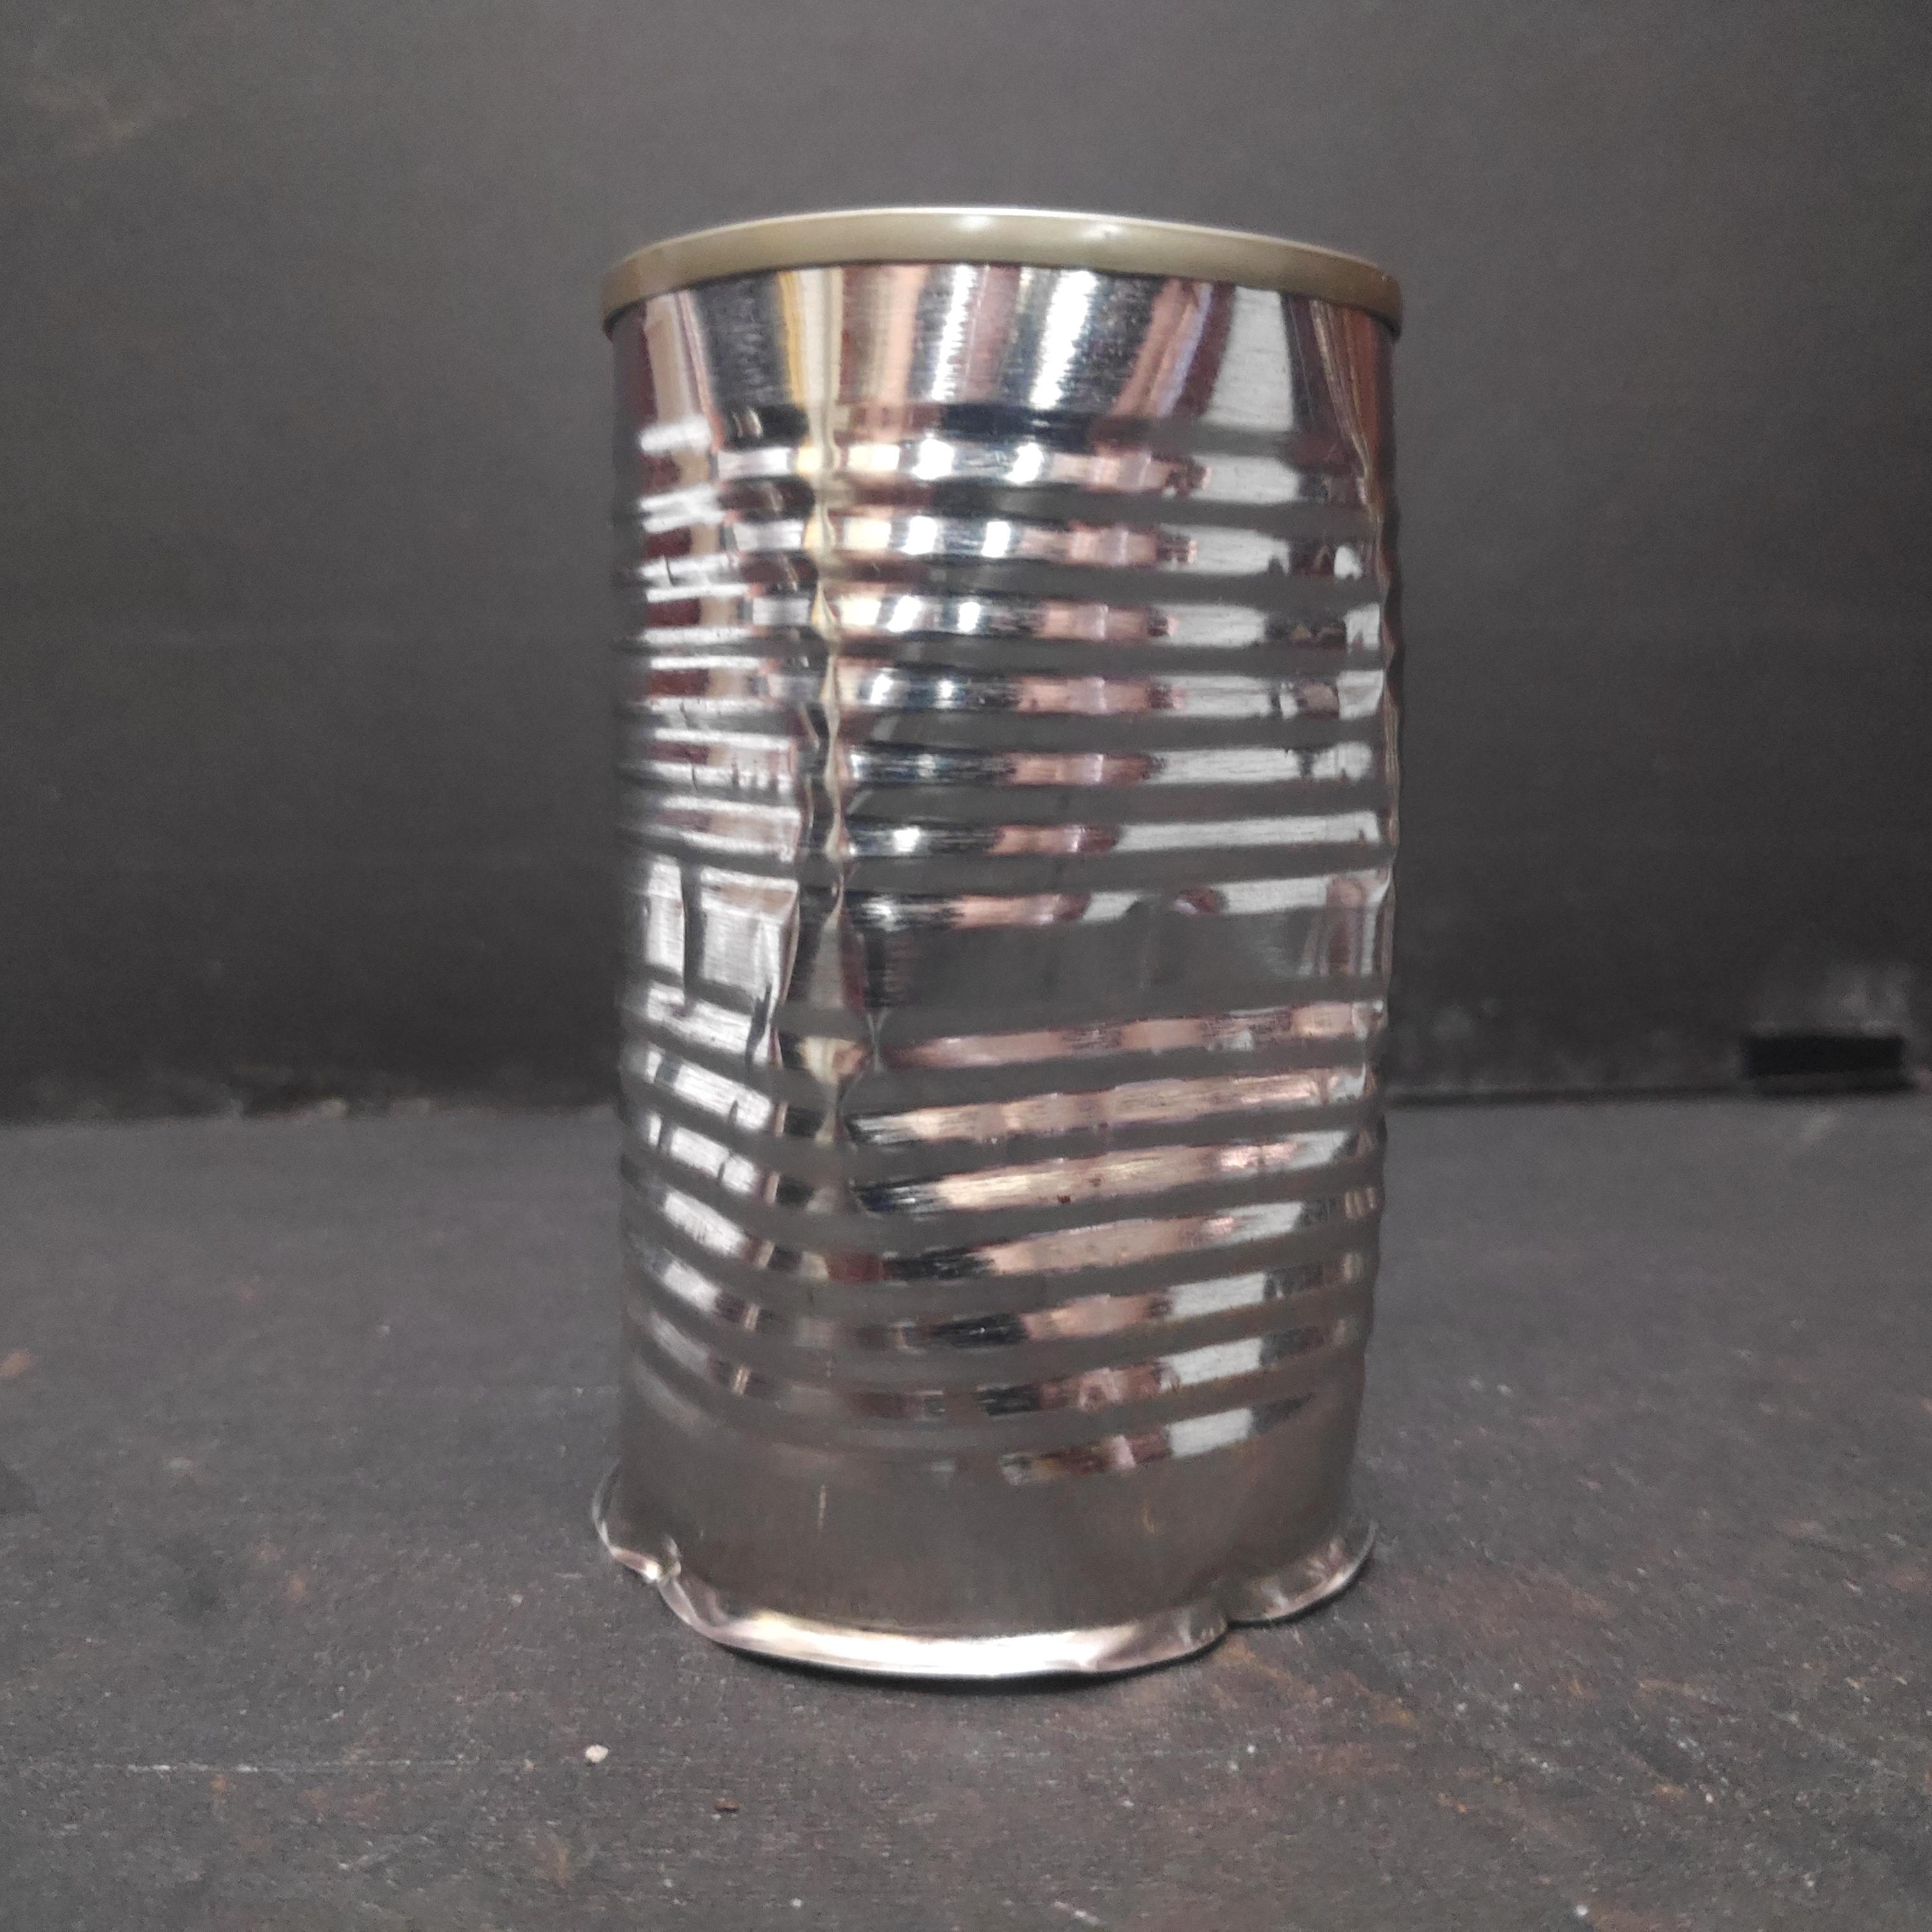Minor Defect: (594, 180, 1421, 1700)
